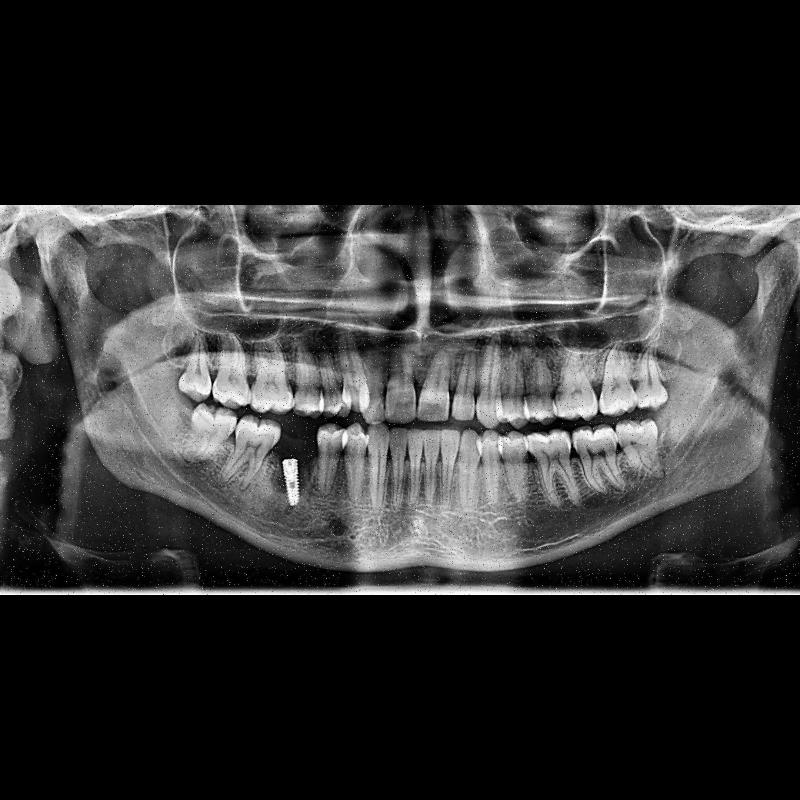osstem: (280, 456, 306, 506)
